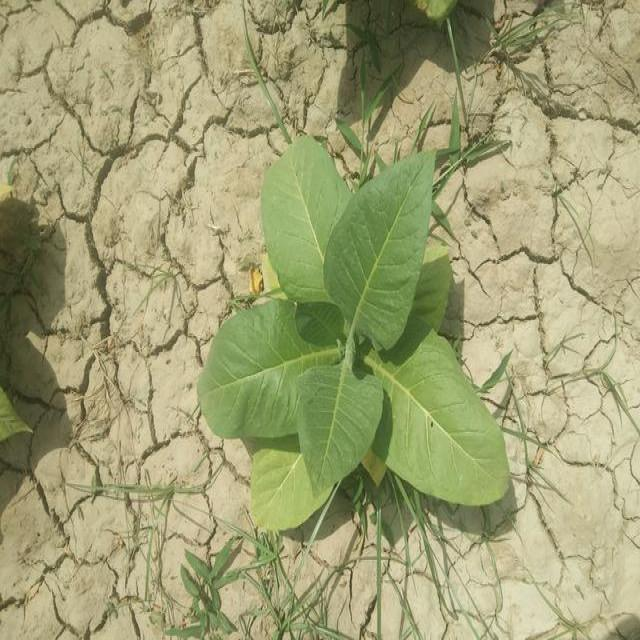crop: (199, 147, 514, 532)
